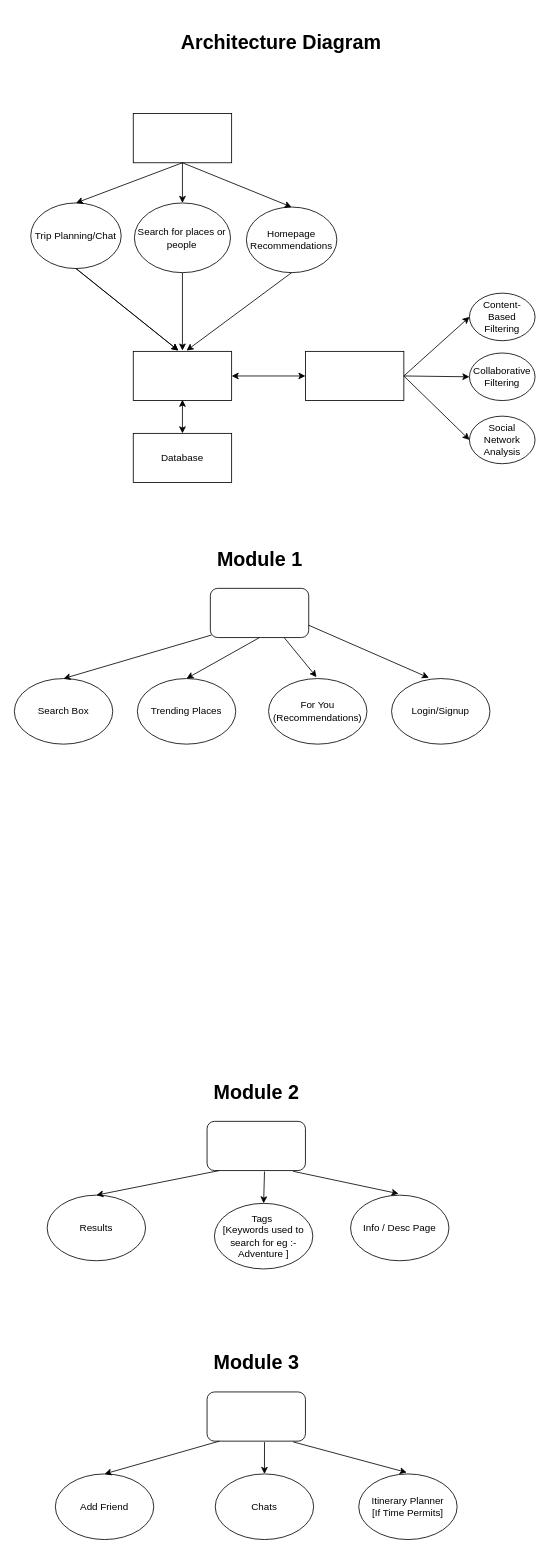
The diagram is 549 pixels wide and 1554 high, and some of its shapes have lost their labels. Each missing label, with the centre of its shape:
"Homepage" goes at (259,613).
"Recommendation Algorithms" goes at (354,376).
"Searchbox" goes at (255,1146).
"Server" goes at (182,376).
"Trip" goes at (255,1416).
"User Browser" goes at (182,138).
